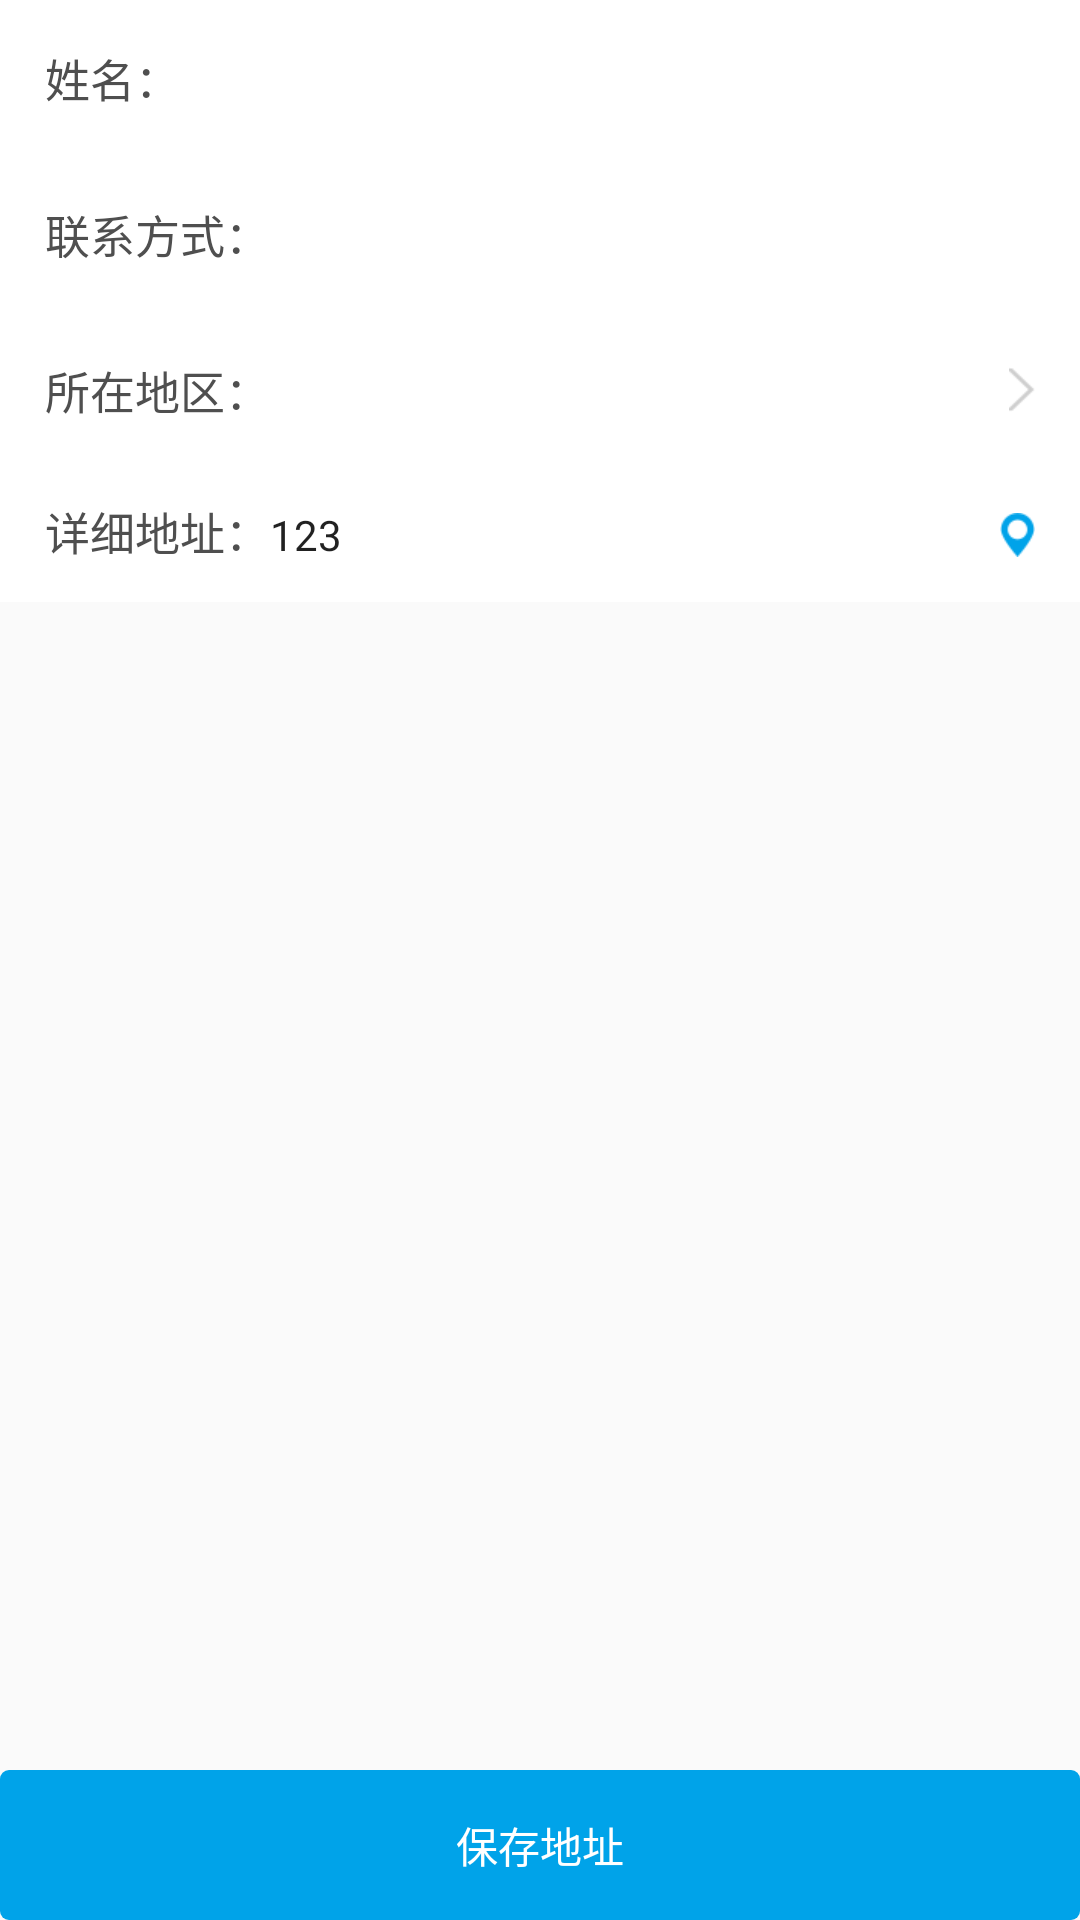

Icon click points for this 1080*1920 phone screenshot, format [x,y]:
arrow: [1021,389]
sjorderdetails locate: [1017,535]
